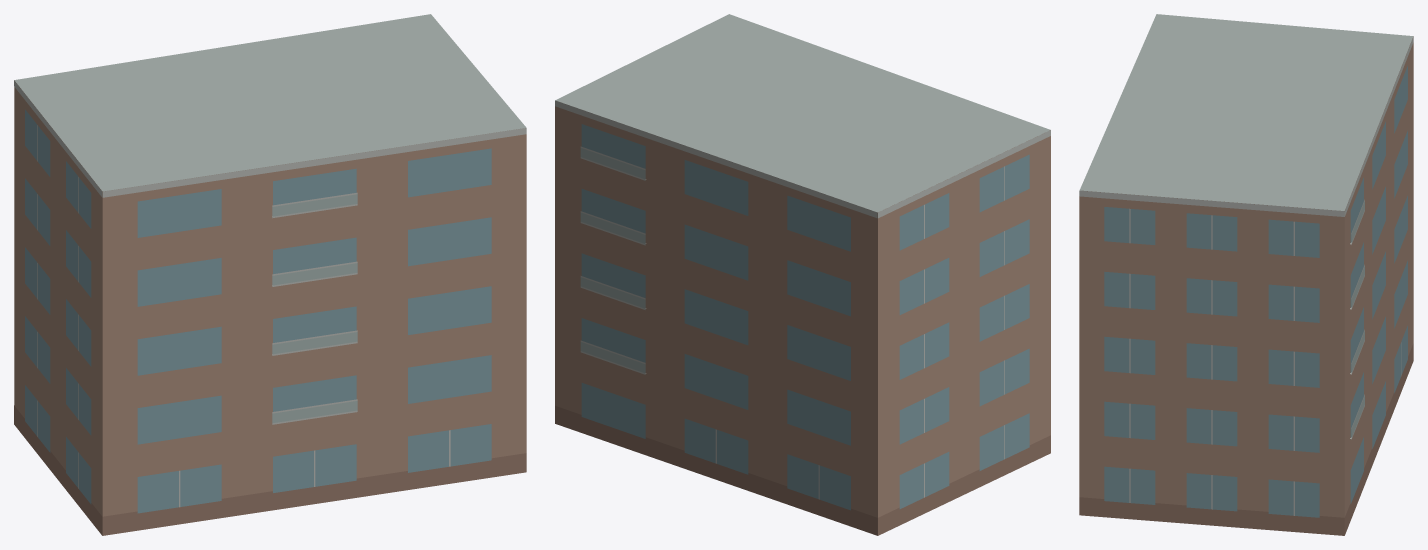
File: survey-upis-32954462.glb
3 renders of one model, left to right at view 1: azimuth 30°, elevation 25°; view 2: azimuth 150°, elevation 25°; view 3: azimuth 270°, elevation 25°, orthographic. The views are drawn at different scales.
Parts seen in each view (by area): view 1: survey-upis-32954462.tmp; view 2: survey-upis-32954462.tmp; view 3: survey-upis-32954462.tmp.
Boxes of the visible parts, x1=… form: survey-upis-32954462.tmp: x1=14, y1=14, x2=526, y2=535; survey-upis-32954462.tmp: x1=555, y1=14, x2=1050, y2=535; survey-upis-32954462.tmp: x1=1079, y1=14, x2=1413, y2=535.
Size of the model in its own units: 17.25 by 13.25 by 12.36.
